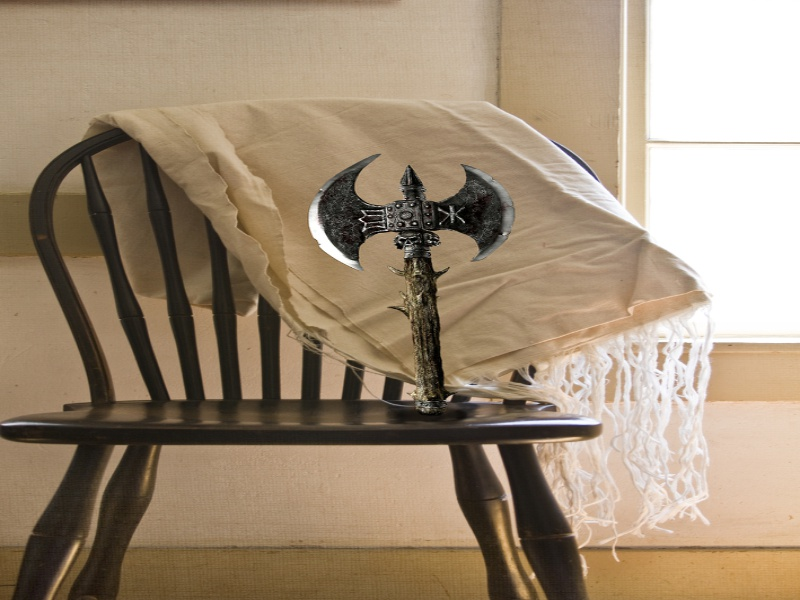axe: (302, 143, 521, 415)
